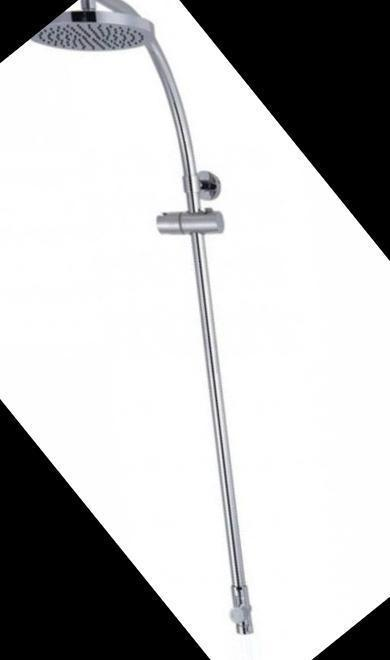Ducha: (0, 0, 390, 649)
